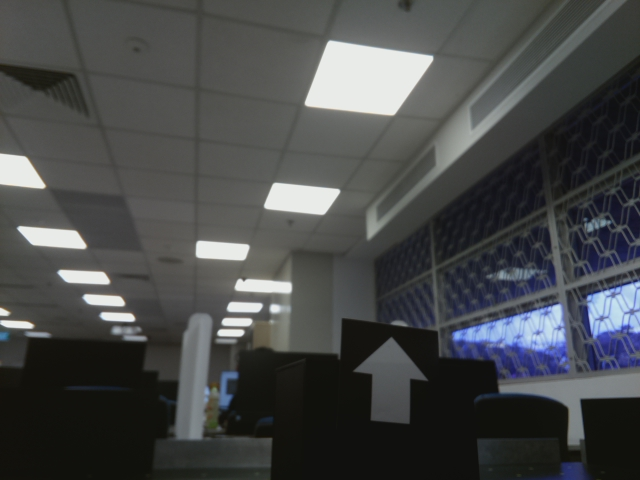up: (351, 332, 431, 430)
